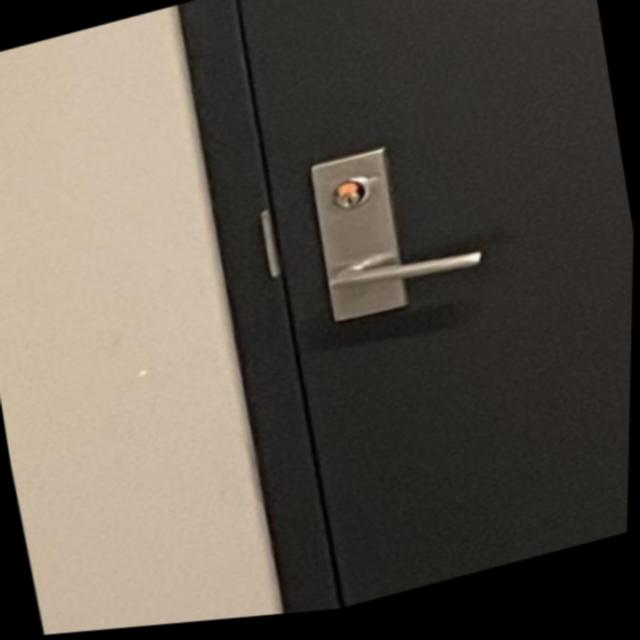door_handle: (291, 214, 503, 331)
